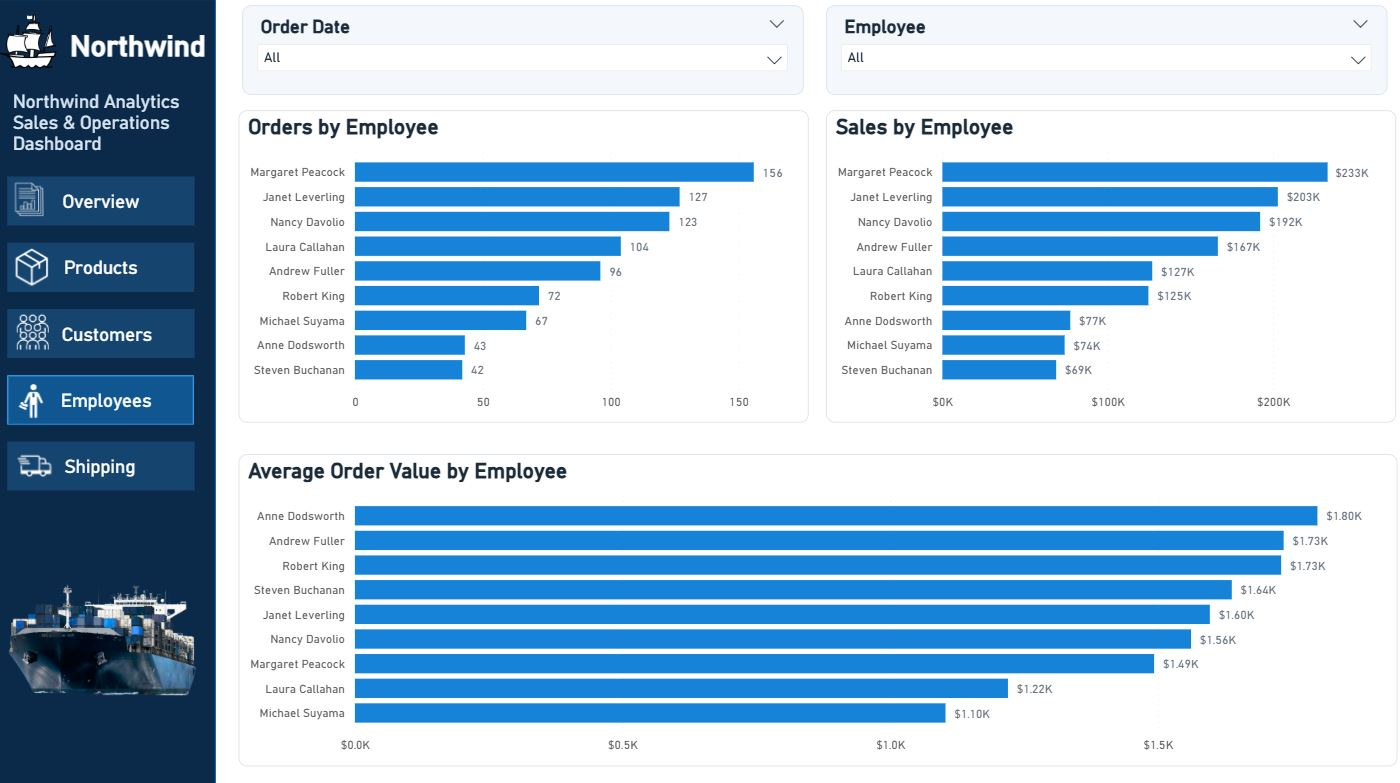

What the dashboard file says about the page in this screenshot:
{"tool":"powerbi","page":{"name":"employees","canvas":[1280,720],"ordinal":3},"visuals":[{"type":"shape","box":[0,0,200,720],"z":0,"group":"g1"},{"type":"slicer","fields":{"Values":["orders.orderDate"]},"box":[224.3,5.7,510,81.4],"z":0},{"type":"slicer","fields":{"Values":["employees.employeeName"]},"box":[754.3,5.7,510,81.4],"z":1000},{"type":"clusteredBarChart","title":"Orders by Employee","fields":{"Category":["employees.employeeName"],"Y":["Tables_measures.Total Orders"]},"box":[220,101.4,518.6,284.3],"z":2000},{"type":"clusteredBarChart","title":"Sales by Employee","fields":{"Category":["employees.employeeName"],"Y":["Tables_measures.Total Sales"]},"box":[754.3,101.4,518.6,284.3],"z":3000},{"type":"clusteredBarChart","title":"Average Order Value by Employee","fields":{"Category":["employees.employeeName"],"Y":["Tables_measures.Avg. Order Value"]},"box":[220,413.8,1053.8,283.8],"z":4000},{"type":"group","id":"g1","title":"Group 1","box":[0,0,234,720],"z":5000},{"type":"textbox","title":"Northwind","box":[62.6,27.5,171.2,32.5],"z":5000,"group":"g1"},{"type":"image","box":[1.4,11.2,56.2,55],"z":6000,"group":"g1"},{"type":"textbox","title":"Northwind Analytics Sales & Operations Dashboard","box":[10.1,82.5,200,96.2],"z":7000,"group":"g1"},{"type":"actionButton","title":"Overview","box":[9.9,161.3,170.3,44.5],"z":8000,"group":"g1"},{"type":"actionButton","box":[10.1,221.3,170,44.7],"z":9000,"group":"g1"},{"type":"actionButton","box":[9.9,281.5,170.3,44.5],"z":10000,"group":"g1"},{"type":"actionButton","title":"Overview","box":[9.9,341.5,169.7,45.2],"z":11000,"group":"g1"},{"type":"actionButton","title":"Overview","box":[9.9,402.2,170.3,44.5],"z":12000,"group":"g1"},{"type":"image","box":[4.9,454,181,266],"z":32000,"group":"g1"}]}

Visuals, with their boxes in screenshot pixels (x1, y1, x2, y2), scaled from the page's 1280x720 canvas onto the 1400x783 screenshot:
shape: {"left": 0, "top": 0, "right": 219, "bottom": 782}
slicer - orders.orderDate: {"left": 245, "top": 6, "right": 803, "bottom": 95}
slicer - employees.employeeName: {"left": 825, "top": 6, "right": 1383, "bottom": 95}
"Orders by Employee" clusteredBarChart: {"left": 241, "top": 110, "right": 808, "bottom": 419}
"Sales by Employee" clusteredBarChart: {"left": 825, "top": 110, "right": 1392, "bottom": 419}
"Average Order Value by Employee" clusteredBarChart: {"left": 241, "top": 450, "right": 1393, "bottom": 759}
"Group 1" group: {"left": 0, "top": 0, "right": 256, "bottom": 782}
"Northwind" textbox: {"left": 68, "top": 30, "right": 256, "bottom": 65}
image: {"left": 2, "top": 12, "right": 63, "bottom": 72}
"Northwind Analytics Sales & Operations Dashboard" textbox: {"left": 11, "top": 90, "right": 230, "bottom": 194}
"Overview" actionButton: {"left": 11, "top": 175, "right": 197, "bottom": 224}
actionButton: {"left": 11, "top": 241, "right": 197, "bottom": 289}
actionButton: {"left": 11, "top": 306, "right": 197, "bottom": 355}
"Overview" actionButton: {"left": 11, "top": 371, "right": 196, "bottom": 421}
"Overview" actionButton: {"left": 11, "top": 437, "right": 197, "bottom": 486}
image: {"left": 5, "top": 494, "right": 203, "bottom": 782}
